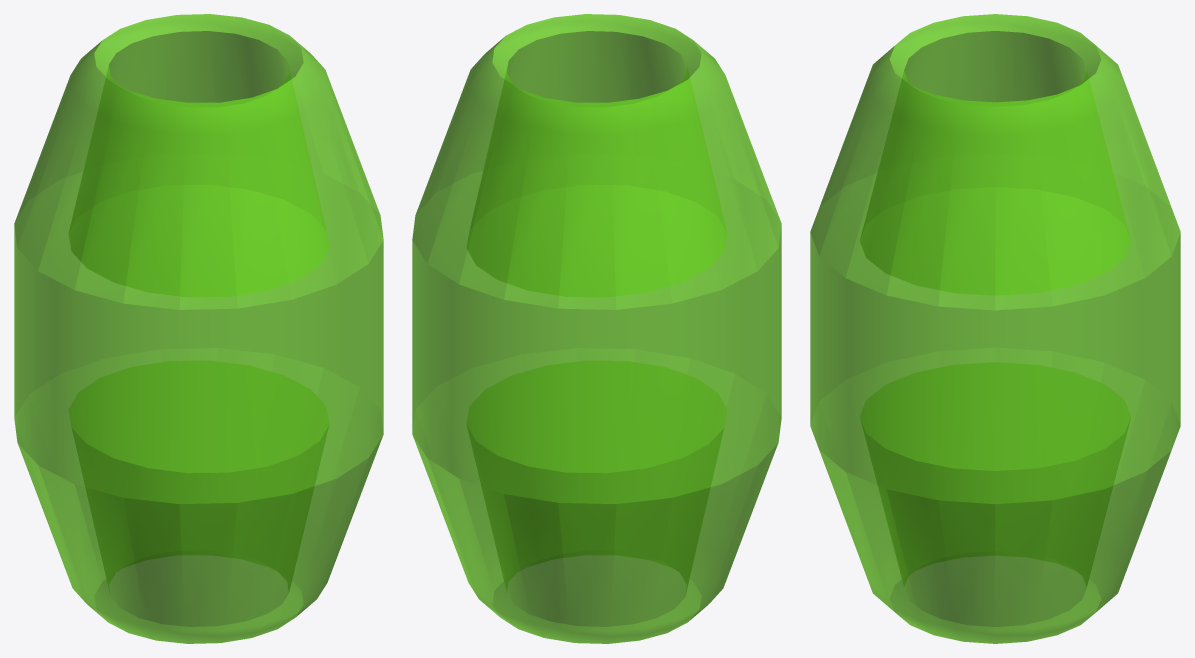
File: PowerCell.fbx
3 views of the same model, side by side, from view 1: azimuth 30°, elevation 25°; view 2: azimuth 150°, elevation 25°; view 3: azimuth 270°, elevation 25° (orthographic).
Visible parts, largest first — view 1: Power1; view 2: Power1; view 3: Power1.
Part boxes in pixels (x1,y1,x2,y2): Power1: (14, 14, 383, 643); Power1: (412, 14, 781, 643); Power1: (810, 14, 1180, 643).
Size of the model in its own units: 0.4625 by 0.7457 by 0.4625.
